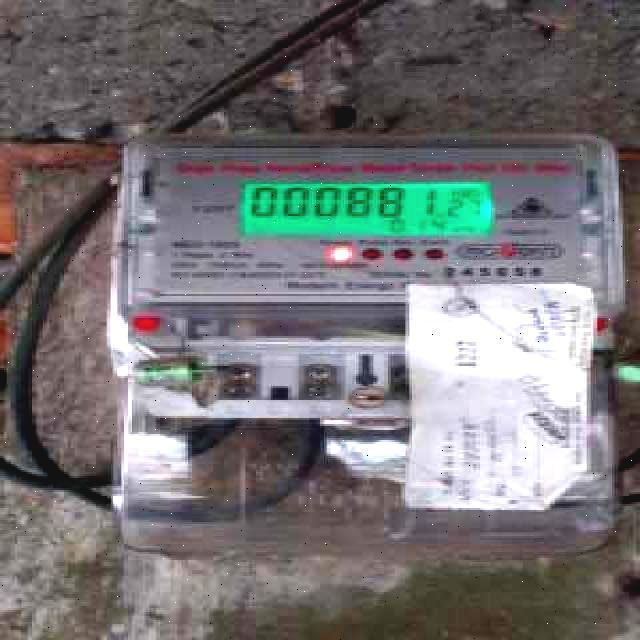LCD: (234, 171, 503, 251)
